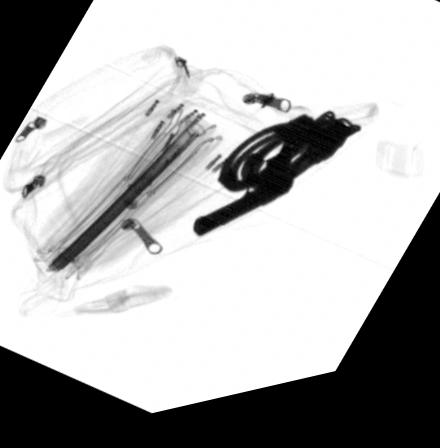Gun: (192, 145, 300, 244)
HandCuffs: (215, 123, 355, 202)
